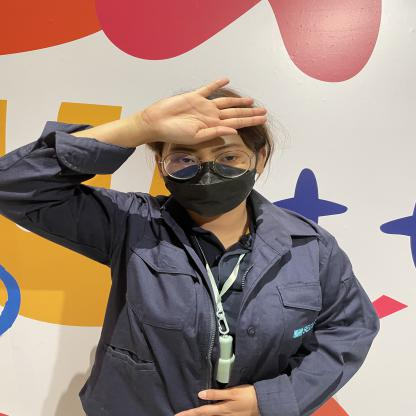Sick: (81, 57, 287, 148)
